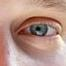eye: (30, 24, 47, 35)
